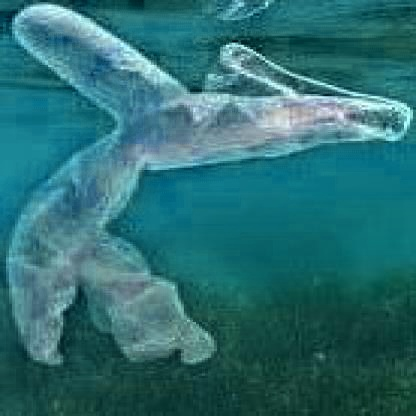glove: (0, 0, 413, 369)
